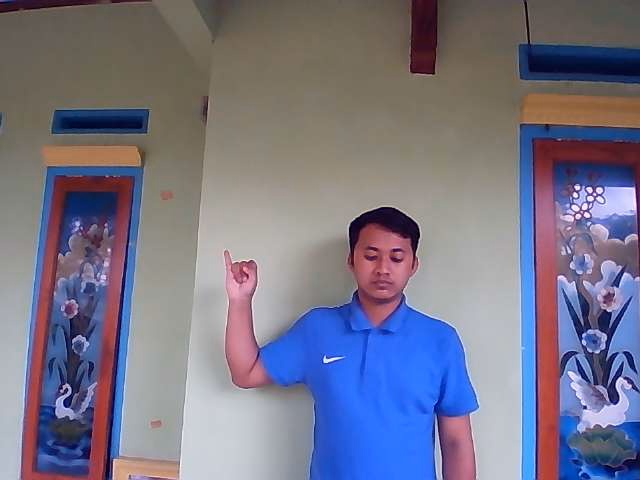I: (222, 248, 259, 302)
